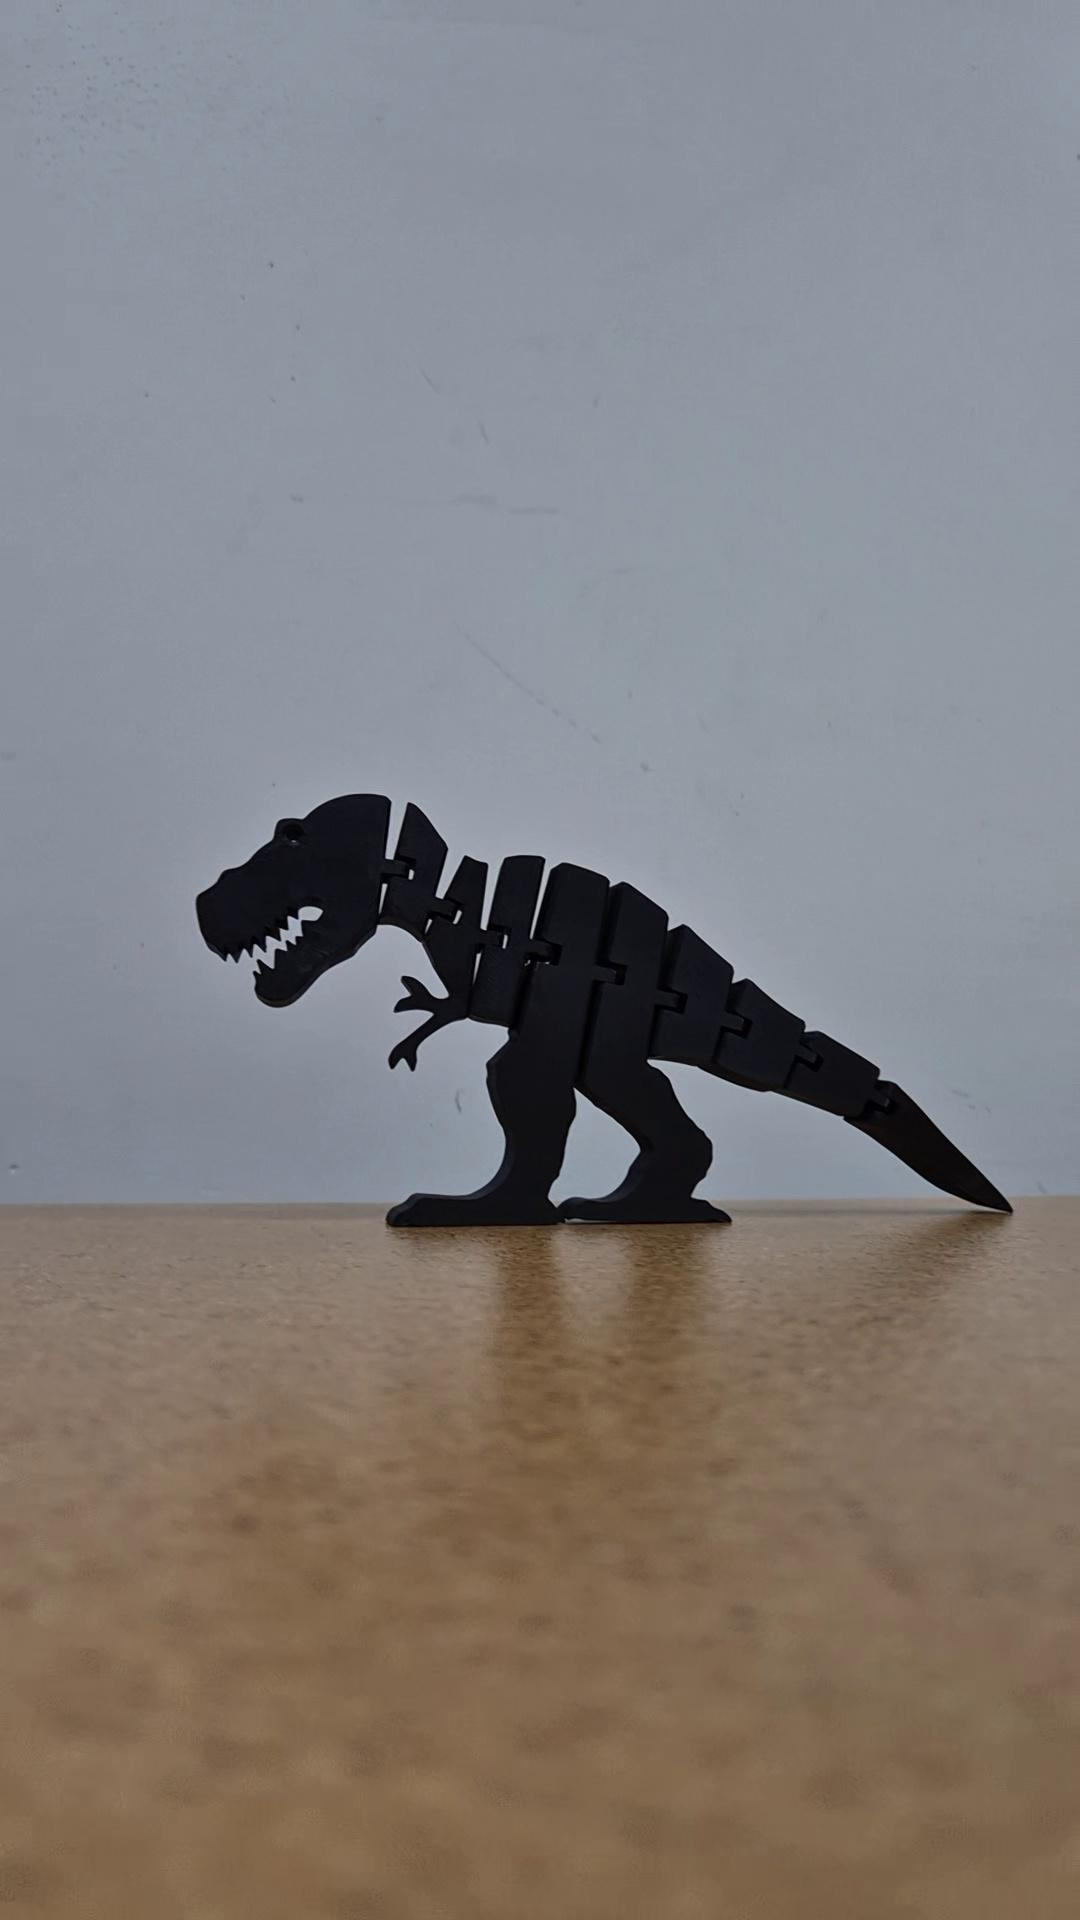dinosaur: (194, 791, 1015, 1229)
